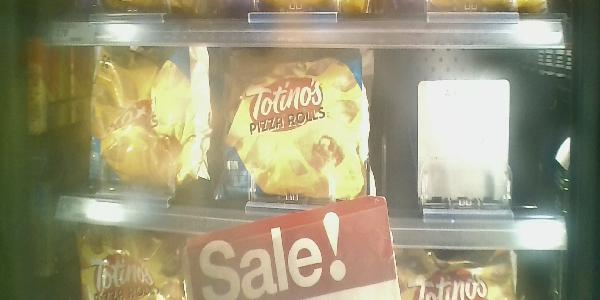icecream: (219, 46, 379, 214), (83, 44, 215, 203)
